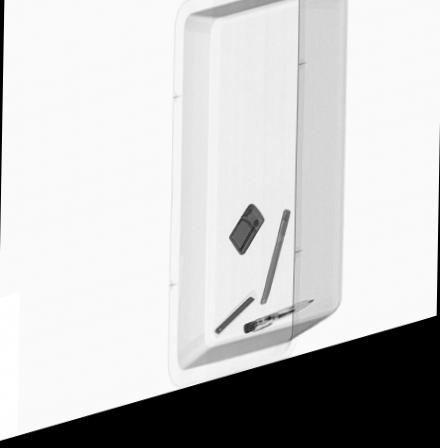Knife: (260, 226, 290, 321), (212, 311, 255, 349)
